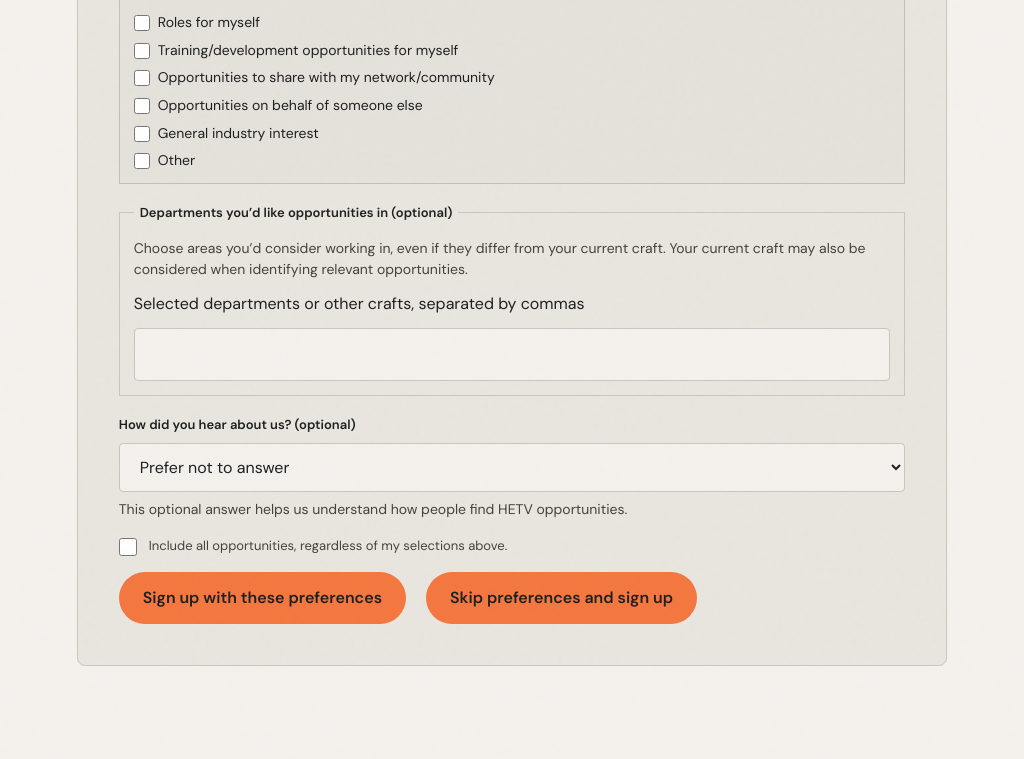
Test: clears route details on source changes and submits an explicit detail decline
The image size is (1024, 759).
Later steps or results of the test are not shown.
(page scrolled)
Select "Instagram" in the dropdown labelled "How did you hear about us? (optional)" at (512, 468), box [119,444,905,492]
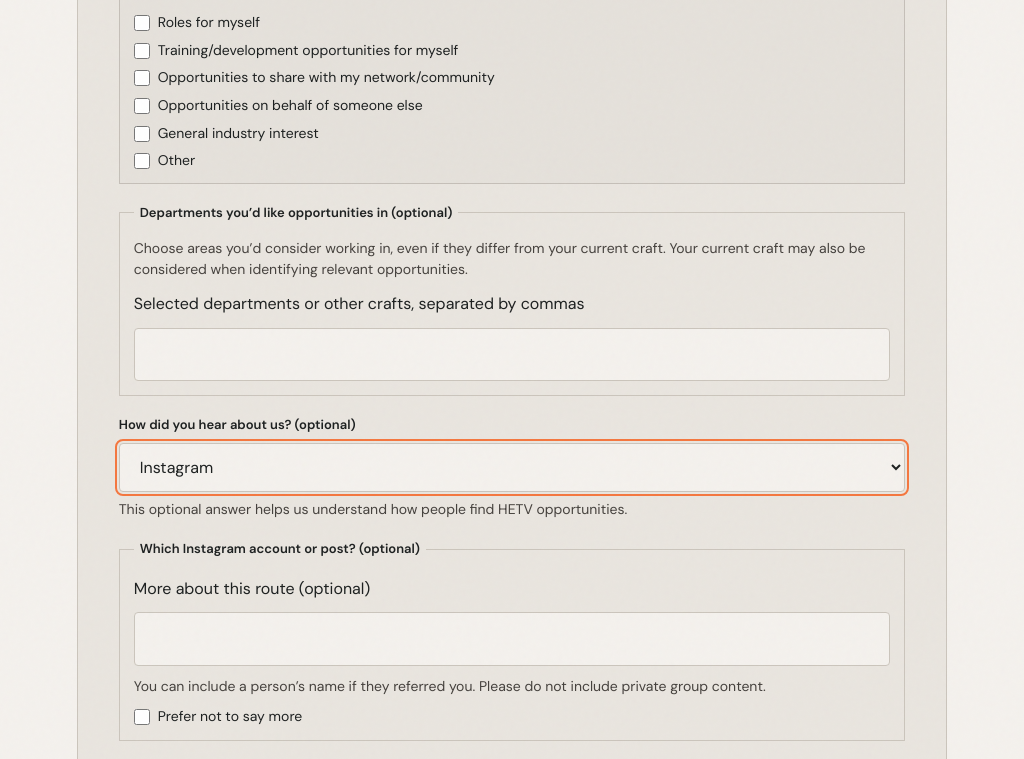
Type "Crew account" into the field labelled "More about this route (optional)" at (512, 639), box [134,612,890,666]
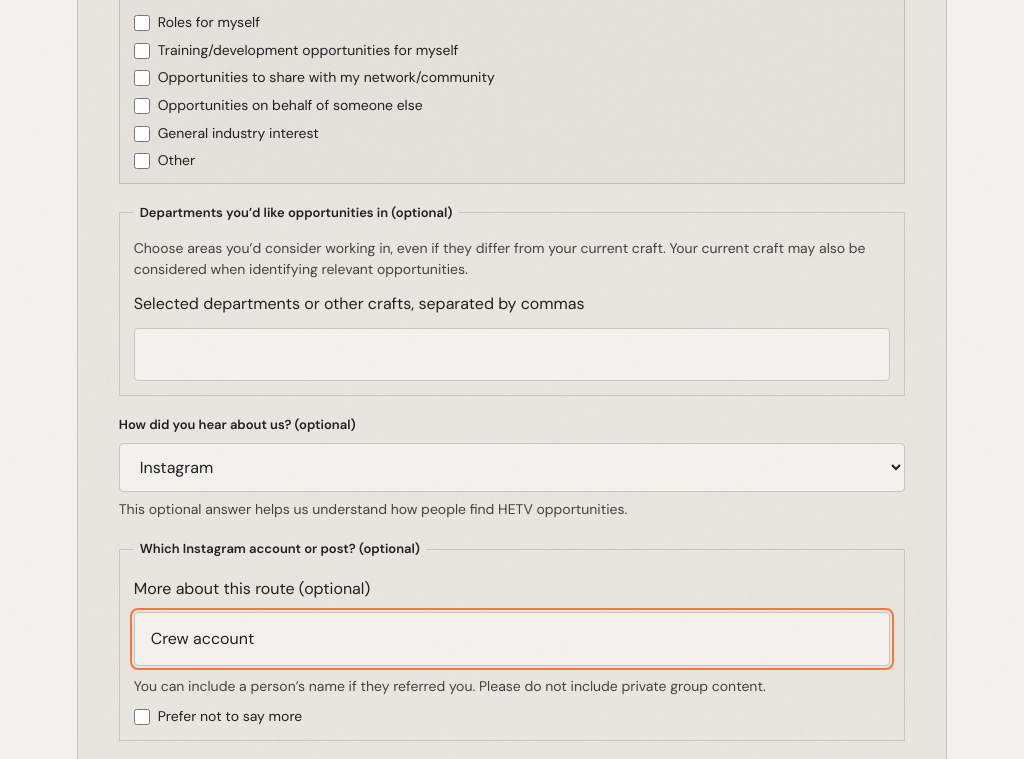
Select "LinkedIn" in the dropdown labelled "How did you hear about us? (optional)" at (512, 468), box [119,444,905,492]
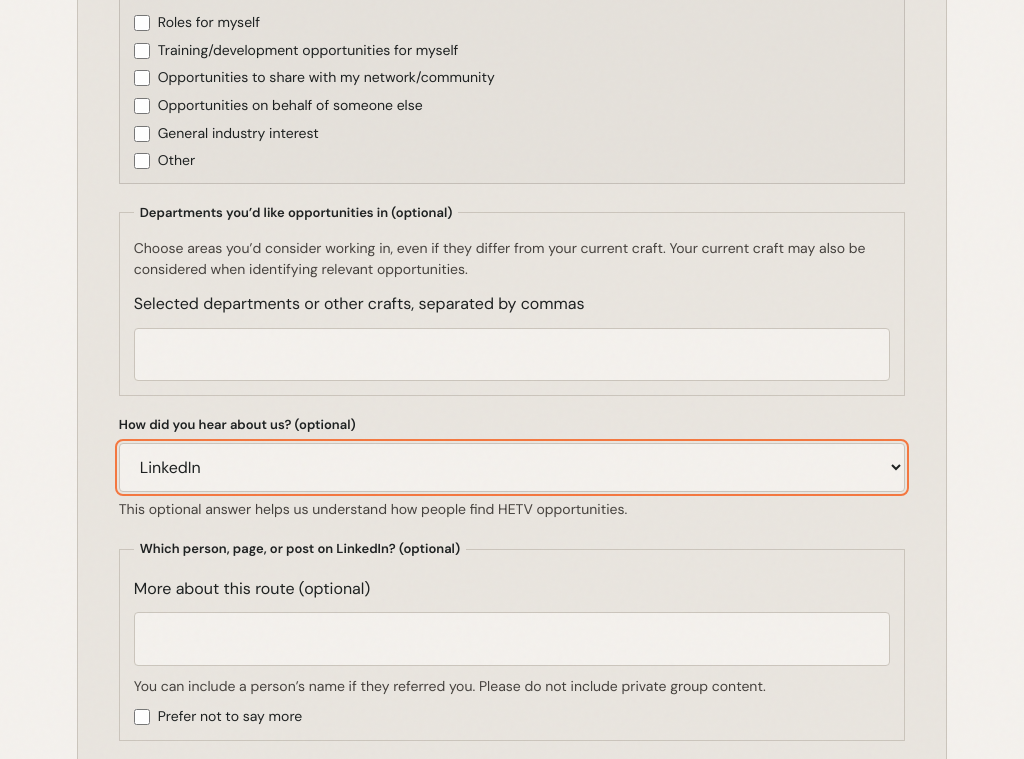
Expected: the field labelled "More about this route (optional)" is empty
Type "A producer" into the field labelled "More about this route (optional)" at (512, 639), box [134,612,890,666]
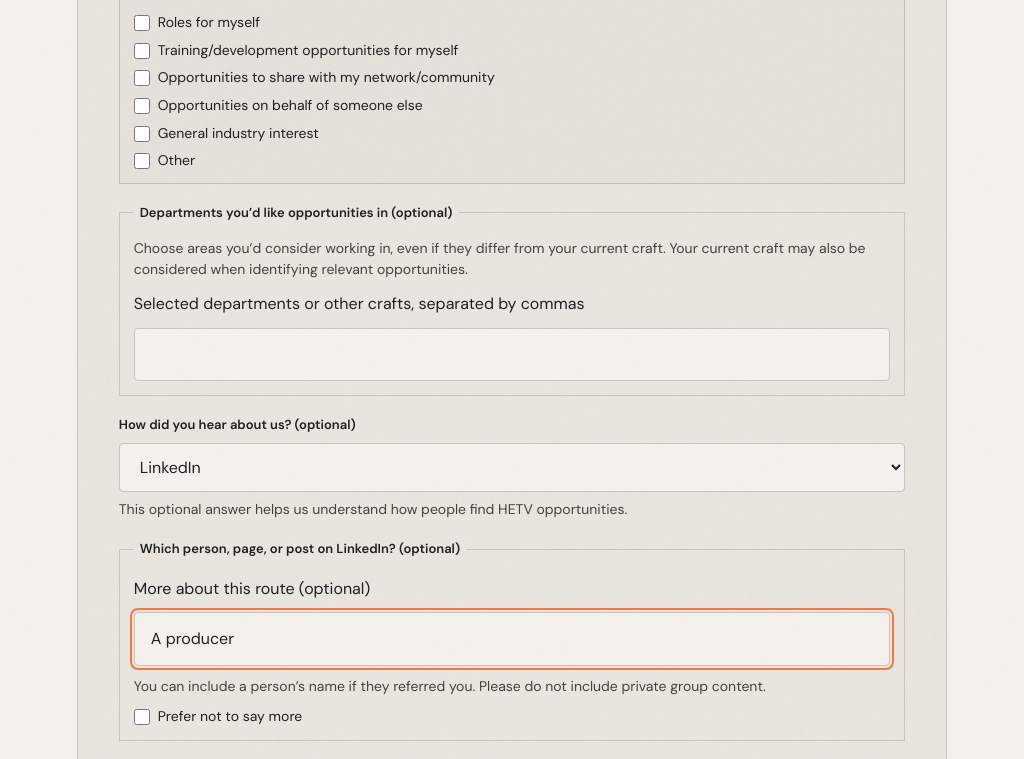
Click the checkbox labelled "Prefer not to say more" at (142, 717), box [134,709,150,725]
(page scrolled)
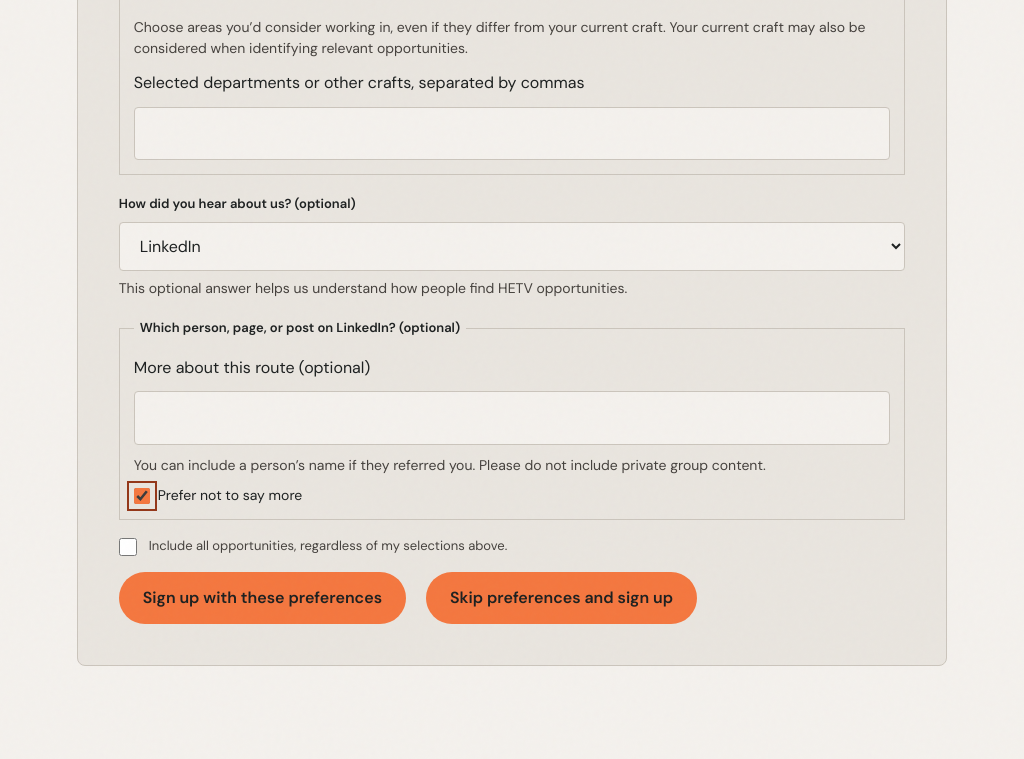
Expected: the field labelled "More about this route (optional)" is disabled, [134,391,890,445]
